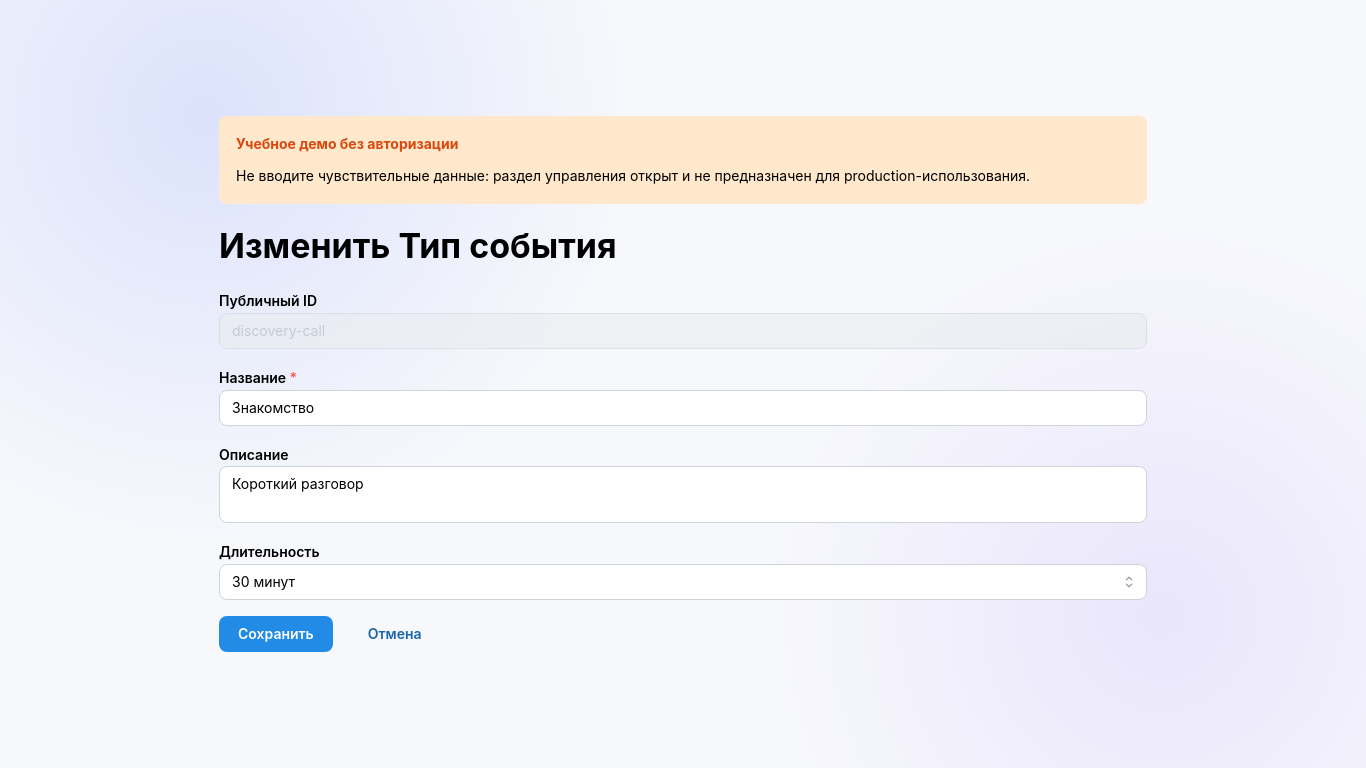
Test case: управление Типами событий › загружает Тип события, сохраняет изменения и возвращает Владельца к списку
Replace the text in the field labelled "Название *" with "Подробное знакомство" at (683, 408), box [219,390,1147,426]
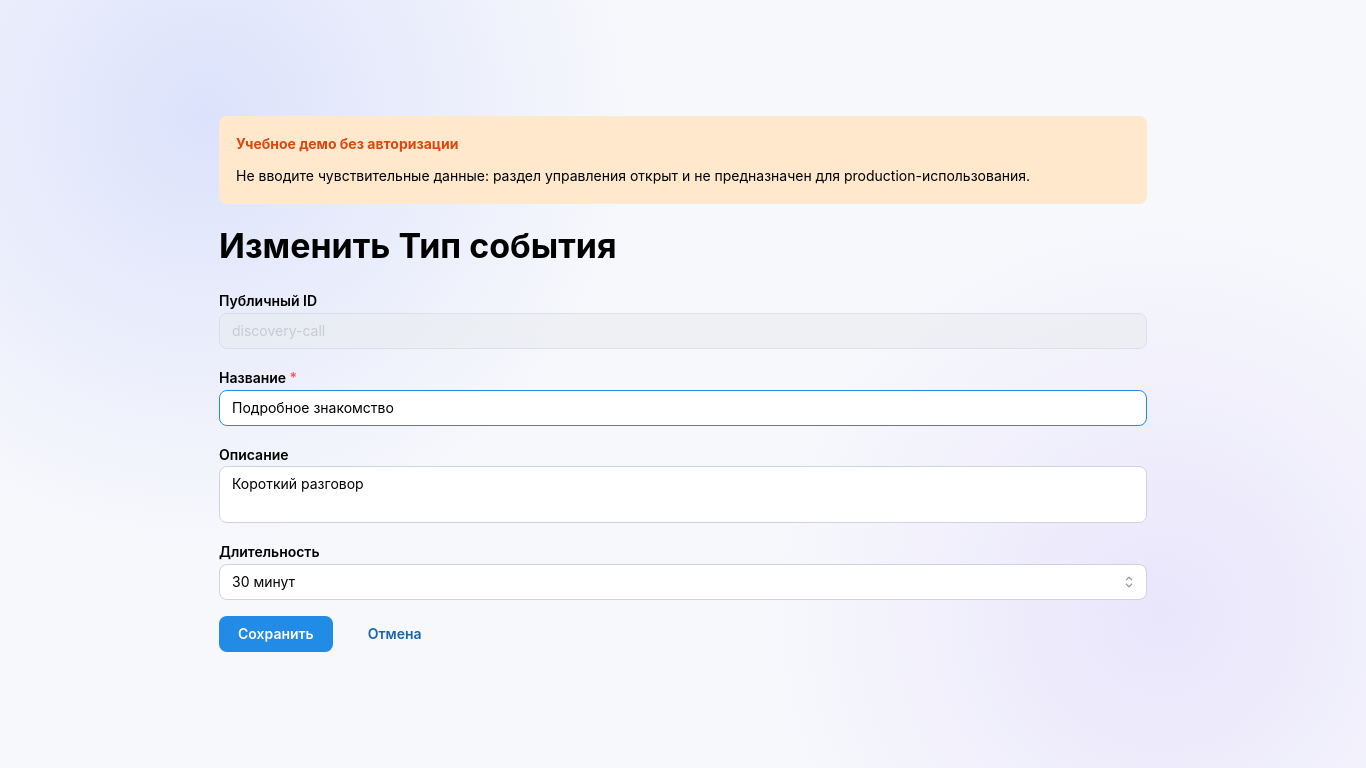
Replace the text in the text box labelled "Описание" with "Обсудим задачу подробнее" at (683, 495), box [219,466,1147,523]
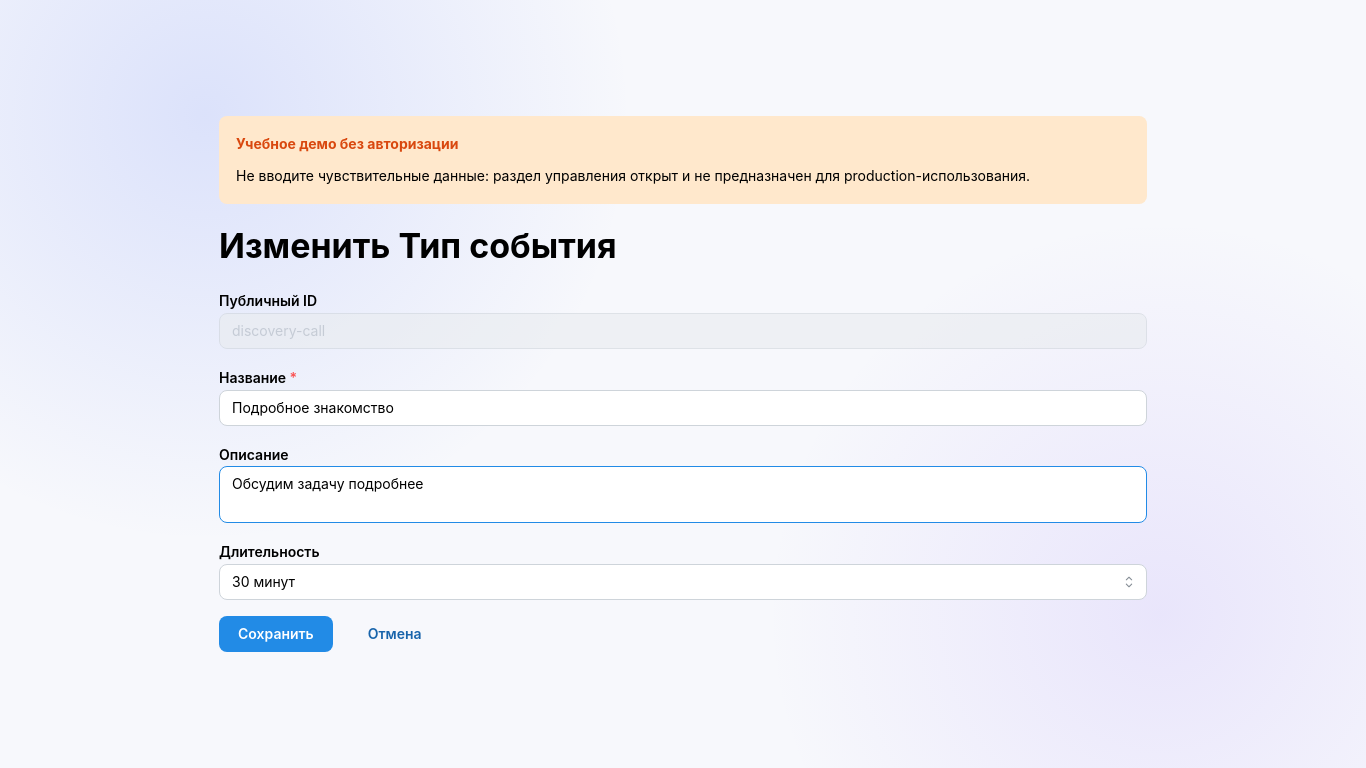
Select "45 минут" in the dropdown labelled "Длительность" at (683, 582), box [219,564,1147,600]
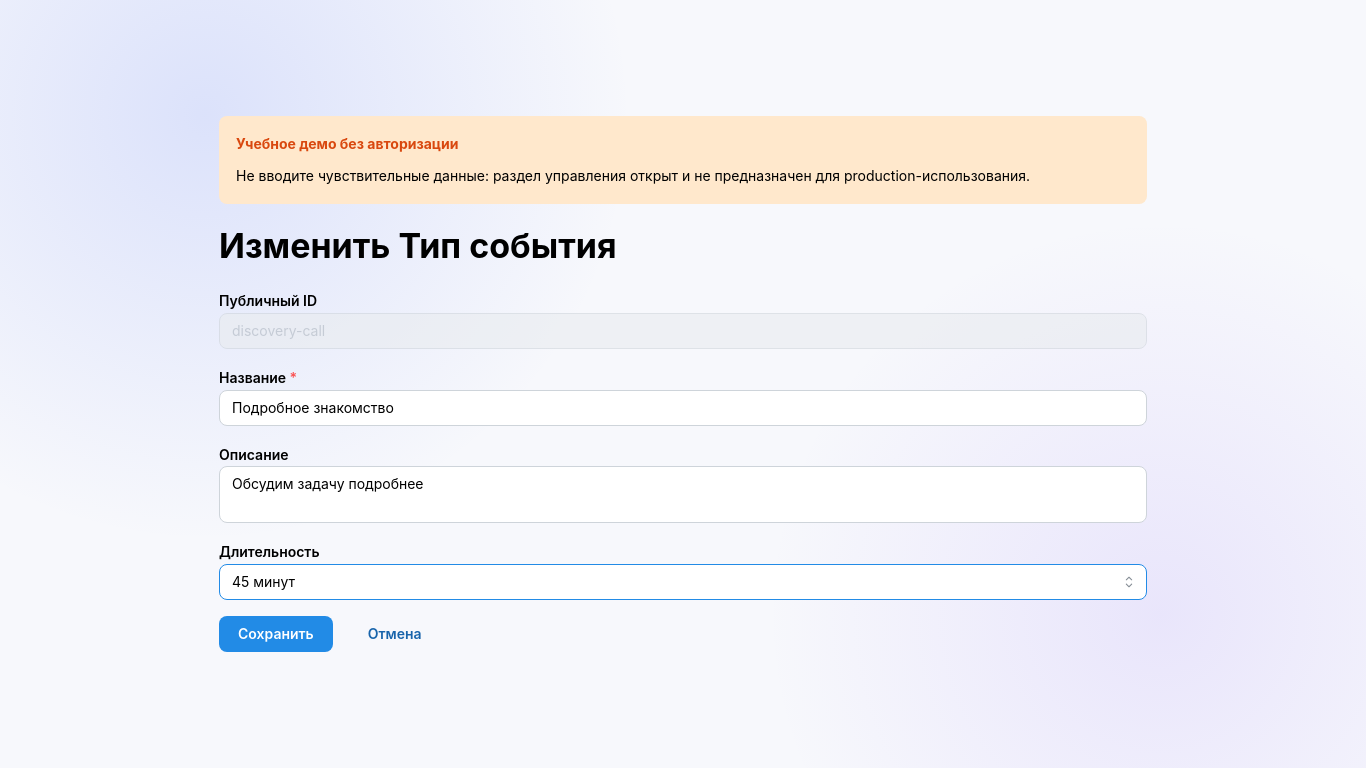
Click the button "Сохранить".
click(276, 634)  # box [219,616,333,652]
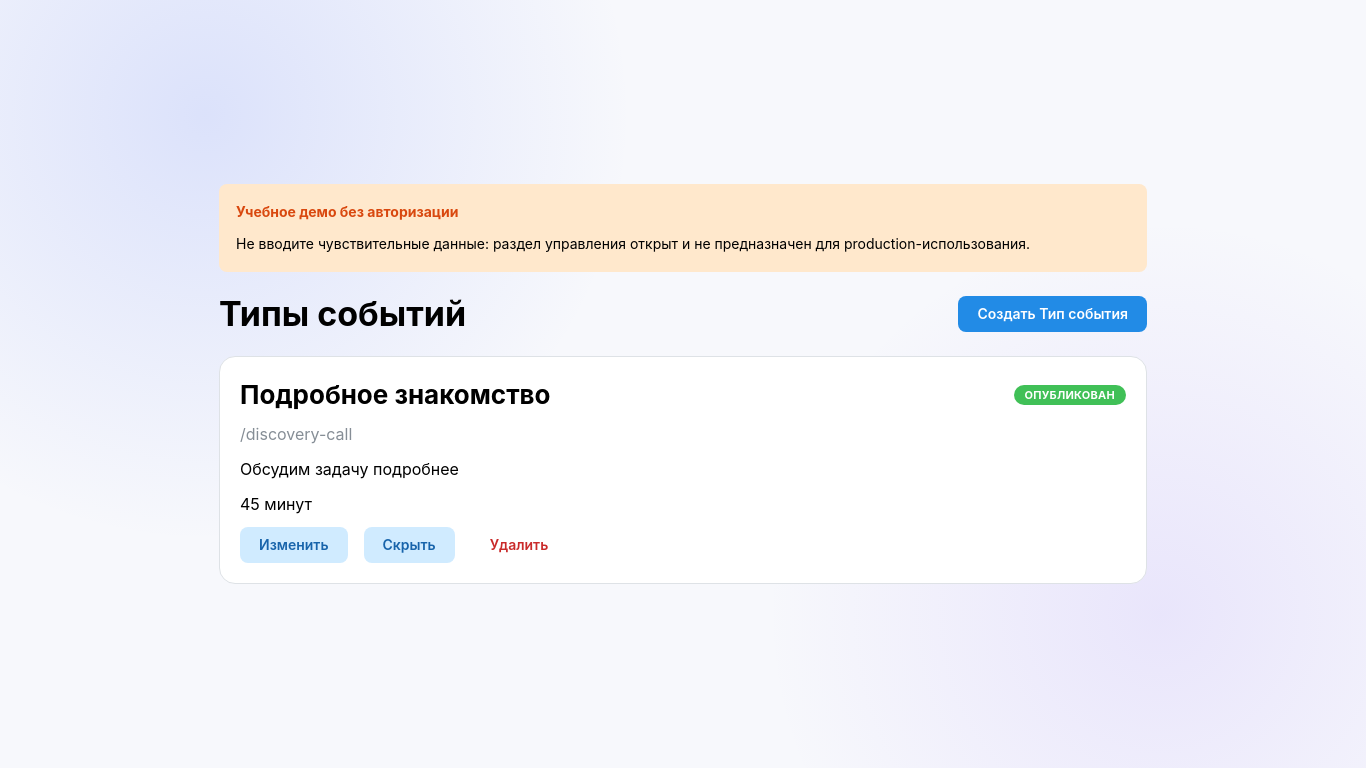
Now the heading "Подробное знакомство" is shown, box [240,377,550,412]
